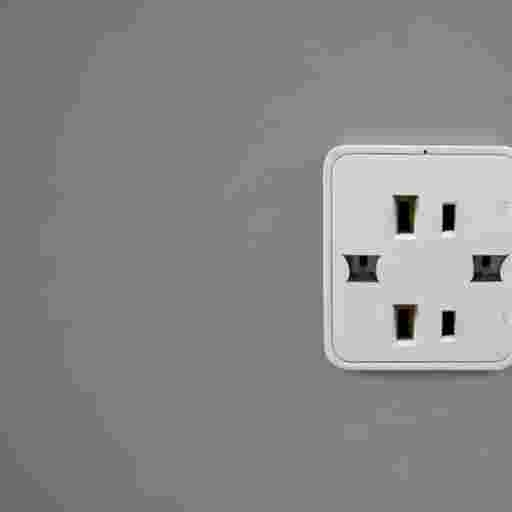power outlet: (323, 145, 511, 370)
